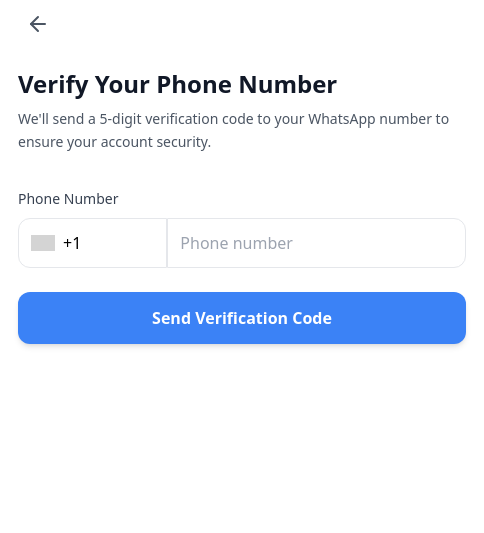
Test: PhoneInput › handles country selection
# Open country dropdown
Click the button "+1": click(93, 243) [18,218,167,268]
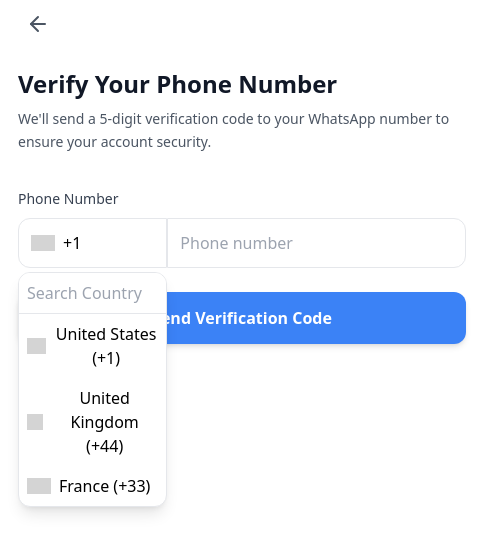
# Wait for dropdown to open and select a different country
Click the button "United Kingdom (+44)": click(93, 422) [19,378,166,466]
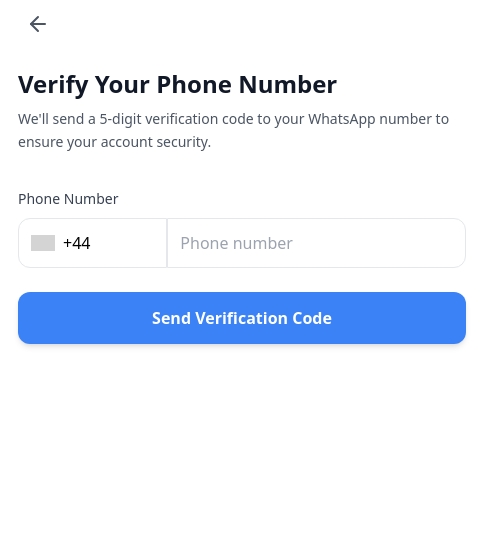
Now the button "+44" is shown, box [18,218,167,268]
